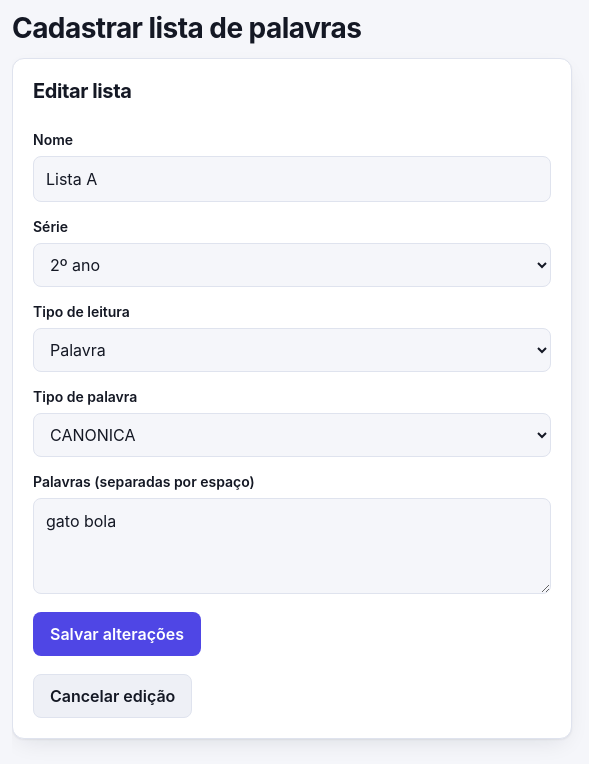
Scenario: ListasPalavrasPage › edits an existing lista sending the version from the detail
expect the text box showing "gato bola" is shown: met, box top-left (33, 498), bottom-right (551, 594)
Step 1. Click the button "Salvar alterações" → (117, 634), box top-left (33, 612), bottom-right (201, 656)
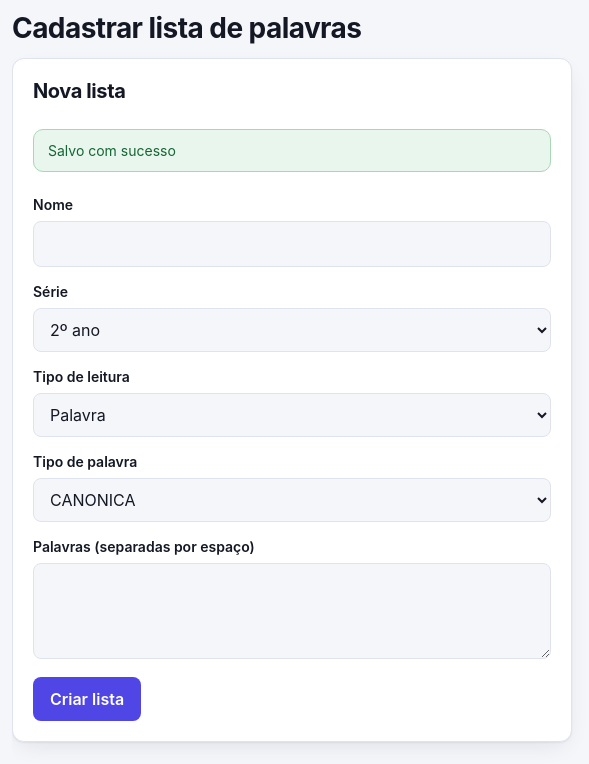
expect the text "Salvo com sucesso" is shown: met, box top-left (33, 129), bottom-right (551, 172)
